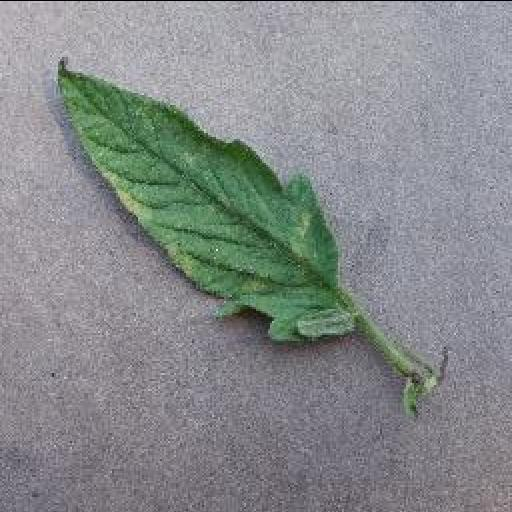disease_tomato: (54, 58, 362, 340)
